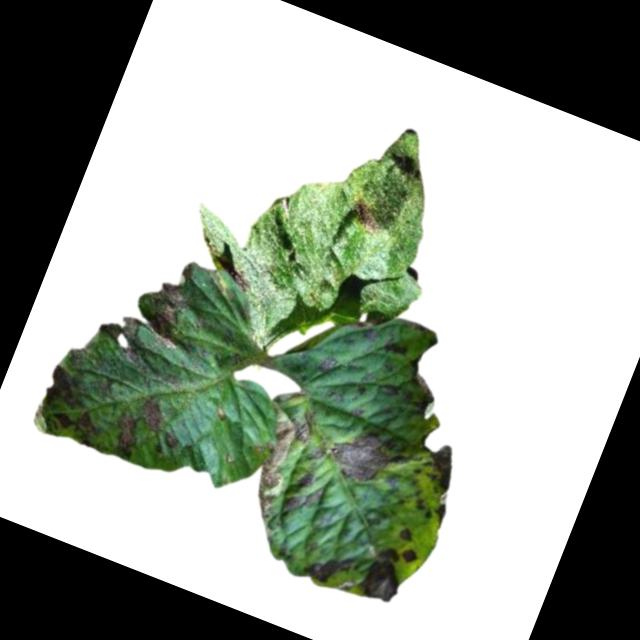Early_blight: (29, 342, 118, 450), (239, 399, 314, 525), (319, 414, 413, 496), (142, 251, 208, 337), (404, 440, 470, 525), (87, 306, 167, 376), (352, 534, 418, 607), (103, 409, 149, 462), (279, 472, 325, 523), (303, 544, 353, 590), (343, 194, 387, 237), (135, 391, 171, 434), (227, 265, 255, 292), (381, 336, 412, 360), (313, 351, 340, 377), (394, 522, 420, 544), (293, 469, 316, 493)
